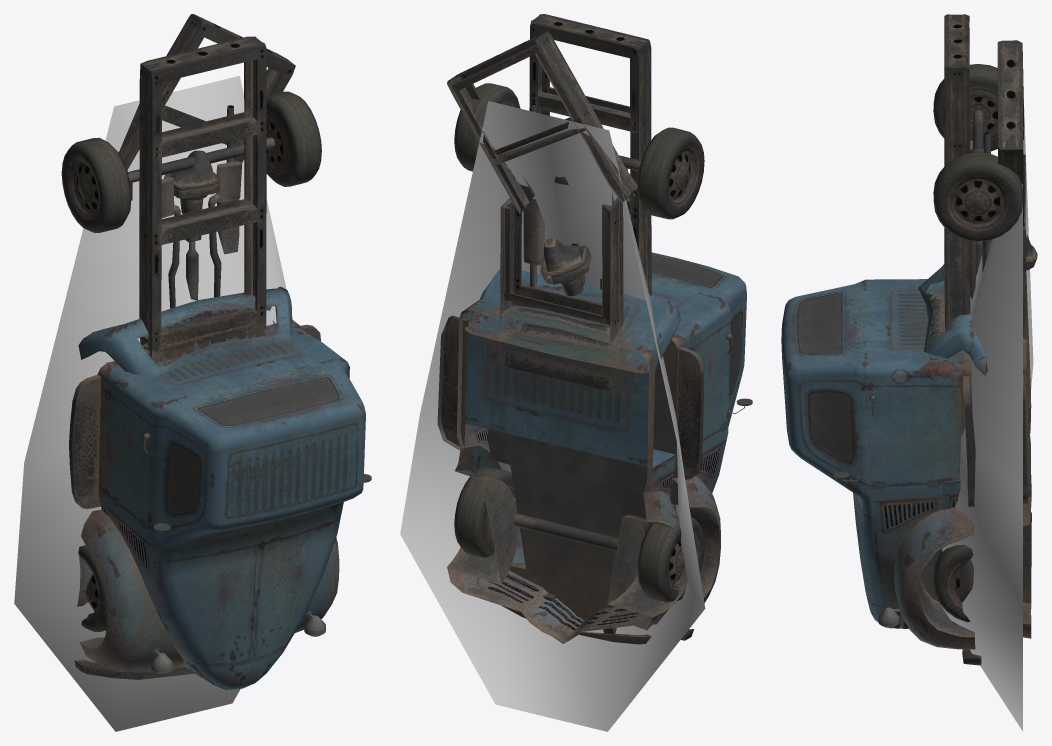
File: hd_env420_OldGLightVan_01.glb
3 renders of one model, left to right at view 1: azimuth 30°, elevation 25°; view 2: azimuth 150°, elevation 25°; view 3: azimuth 270°, elevation 25°, orthographic. The views are drawn at different scales.
Parts seen in each view (by area): view 1: set_0_group_2, set_0_group_0, set_0_group_1; view 2: set_0_group_1, set_0_group_2, set_0_group_0; view 3: set_0_group_2, set_0_group_0, set_0_group_1.
Boxes of the visible parts, bbox=[...] form: set_0_group_2: bbox=[61, 36, 371, 689]; set_0_group_0: bbox=[14, 76, 292, 731]; set_0_group_1: bbox=[77, 14, 295, 606]; set_0_group_1: bbox=[437, 31, 687, 643]; set_0_group_2: bbox=[454, 14, 752, 644]; set_0_group_0: bbox=[400, 101, 705, 731]; set_0_group_2: bbox=[781, 14, 1023, 665]; set_0_group_0: bbox=[941, 99, 1033, 731]; set_0_group_1: bbox=[918, 40, 1037, 638].
Size of the model in its own units: 2.69 by 5.69 by 1.97.
Materials: 3 (2 with a texture image).
